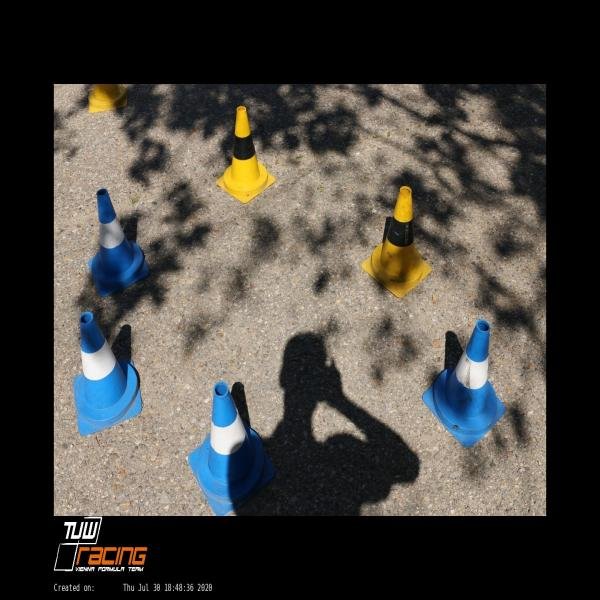blue_cone: (187, 382, 277, 516), (422, 318, 507, 449), (73, 311, 142, 437), (88, 189, 150, 296)
yellow_cone: (361, 186, 432, 298), (216, 107, 276, 204), (88, 84, 128, 112)
